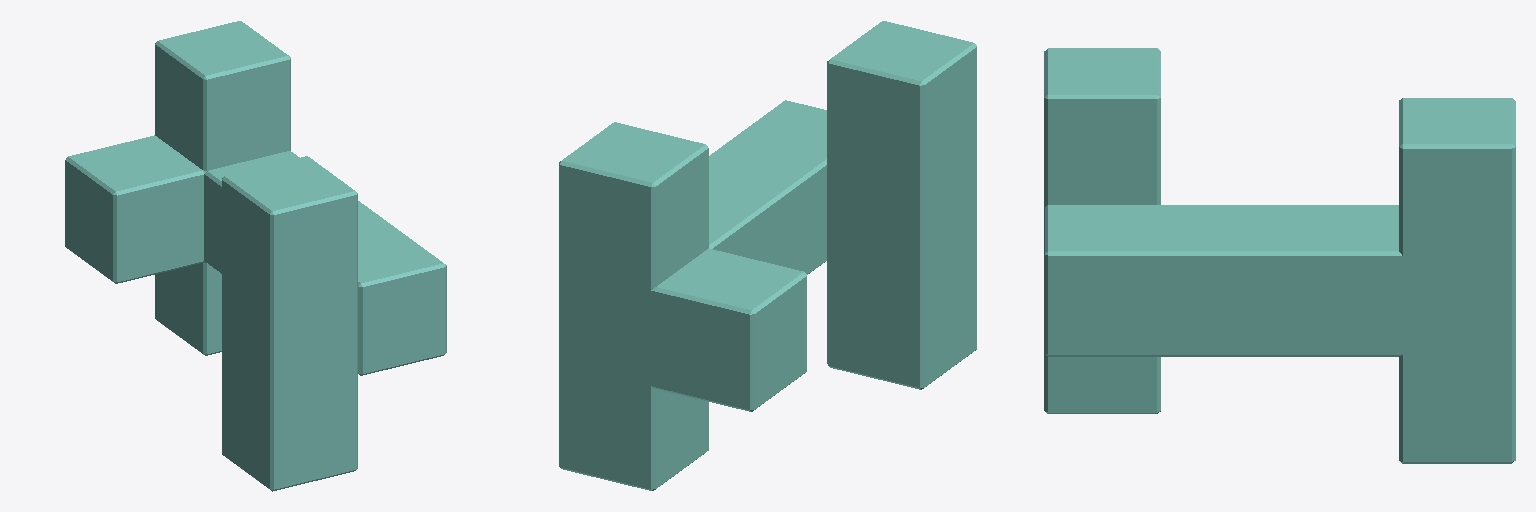
--- Facts derived from the render (not from the file) ---
3 views of the same robot in one strip: view 1: azimuth 30°, elevation 25°; view 2: azimuth 150°, elevation 25°; view 3: azimuth 270°, elevation 25° (orthographic).
Model obj_3 with 1 links and 0 joints (none), rooted at link_piece_3, posed all joints at 0.
Visible links, largest first — view 1: link_piece_3; view 2: link_piece_3; view 3: link_piece_3.
Link boxes in pixels (x1=…): link_piece_3: x1=65, y1=21, x2=446, y2=491; link_piece_3: x1=559, y1=21, x2=976, y2=490; link_piece_3: x1=1044, y1=48, x2=1515, y2=463.
Size in the robot's own frame: 0.3187 by 0.6399 by 0.4793 metres.
Meshes: 1 distinct files referenced, 1 mesh visuals loaded (1 OBJ).

The robot description file, URDF, robot "obj_3":
<robot name="obj_3" version="1.0">
  <link name="link_piece_3">
    <collision name="piece_3-collision.001">
      <origin rpy="0.78483 0.00000 0.00000" xyz="-0.55141 0.18361 0.63871"/>
      <geometry>
        <mesh filename="../meshes/obj/piece_3-collision.001.obj" scale="2.67513 2.67513 2.67513"/>
      </geometry>
    </collision>
    <collision name="piece_3-collision.002">
      <origin rpy="-0.00000 0.78540 -0.00000" xyz="-0.47473 0.26029 0.63871"/>
      <geometry>
        <mesh filename="../meshes/obj/piece_3-collision.002.obj" scale="2.67513 2.67513 2.67513"/>
      </geometry>
    </collision>
    <collision name="piece_3-collision.003">
      <origin rpy="-0.78483 0.00000 0.00000" xyz="-0.55141 0.33697 0.63871"/>
      <geometry>
        <mesh filename="../meshes/obj/piece_3-collision.003.obj" scale="2.67513 2.67513 2.67513"/>
      </geometry>
    </collision>
    <collision name="piece_3-collision.004">
      <origin rpy="0.78546 0.00000 -1.57080" xyz="-0.62810 0.26029 0.63871"/>
      <geometry>
        <mesh filename="../meshes/obj/piece_3-collision.004.obj" scale="2.67513 2.67513 2.67513"/>
      </geometry>
    </collision>
    <collision name="piece_3-collision.005">
      <origin rpy="1.57080 -1.57080 0.00000" xyz="-0.55141 0.18124 0.40152"/>
      <geometry>
        <mesh filename="../meshes/obj/piece_3-collision.005.obj" scale="2.67513 2.67513 2.67513"/>
      </geometry>
    </collision>
    <collision name="piece_3-collision.006">
      <origin rpy="1.57080 0.00000 -1.57080" xyz="-0.63046 0.26029 0.40152"/>
      <geometry>
        <mesh filename="../meshes/obj/piece_3-collision.006.obj" scale="2.67513 2.67513 2.67513"/>
      </geometry>
    </collision>
    <collision name="piece_3-collision.007">
      <origin rpy="-1.57080 1.57080 0.00000" xyz="-0.55141 0.33934 0.40152"/>
      <geometry>
        <mesh filename="../meshes/obj/piece_3-collision.007.obj" scale="2.67513 2.67513 2.67513"/>
      </geometry>
    </collision>
    <collision name="piece_3-collision.008">
      <origin rpy="1.57080 -0.00000 -2.35556" xyz="-0.62810 0.33697 0.40152"/>
      <geometry>
        <mesh filename="../meshes/obj/piece_3-collision.008.obj" scale="2.67513 2.67513 2.67513"/>
      </geometry>
    </collision>
    <collision name="piece_3-collision.009">
      <origin rpy="1.57080 0.00000 -0.78603" xyz="-0.62810 0.18361 0.40152"/>
      <geometry>
        <mesh filename="../meshes/obj/piece_3-collision.009.obj" scale="2.67513 2.67513 2.67513"/>
      </geometry>
    </collision>
    <collision name="piece_3-collision.010">
      <origin rpy="1.57080 0.00000 0.78597" xyz="-0.47473 0.18361 0.40152"/>
      <geometry>
        <mesh filename="../meshes/obj/piece_3-collision.010.obj" scale="2.67513 2.67513 2.67513"/>
      </geometry>
    </collision>
    <collision name="piece_3-collision.011">
      <origin rpy="1.57080 -0.00000 2.35562" xyz="-0.47473 0.33697 0.40152"/>
      <geometry>
        <mesh filename="../meshes/obj/piece_3-collision.011.obj" scale="2.67513 2.67513 2.67513"/>
      </geometry>
    </collision>
    <collision name="piece_3-collision.012">
      <origin rpy="3.14159 0.78533 -3.14159" xyz="-0.47473 0.26029 0.16433"/>
      <geometry>
        <mesh filename="../meshes/obj/piece_3-collision.012.obj" scale="2.67513 2.67513 2.67513"/>
      </geometry>
    </collision>
    <collision name="piece_3-collision.013">
      <origin rpy="2.35683 -0.00000 -3.14159" xyz="-0.55141 0.33697 0.16433"/>
      <geometry>
        <mesh filename="../meshes/obj/piece_3-collision.013.obj" scale="2.67513 2.67513 2.67513"/>
      </geometry>
    </collision>
    <collision name="piece_3-collision.014">
      <origin rpy="-3.14159 -0.78540 -3.14159" xyz="-0.62810 0.26029 0.16433"/>
      <geometry>
        <mesh filename="../meshes/obj/piece_3-collision.014.obj" scale="2.67513 2.67513 2.67513"/>
      </geometry>
    </collision>
    <collision name="piece_3-collision.015">
      <origin rpy="2.35683 0.00000 0.00000" xyz="-0.55141 0.18361 0.16433"/>
      <geometry>
        <mesh filename="../meshes/obj/piece_3-collision.015.obj" scale="2.67513 2.67513 2.67513"/>
      </geometry>
    </collision>
    <collision name="piece_3-collision.016">
      <origin rpy="1.57080 -0.00000 1.57080" xyz="-0.47236 0.26029 0.40152"/>
      <geometry>
        <mesh filename="../meshes/obj/piece_3-collision.016.obj" scale="2.67513 2.67513 2.67513"/>
      </geometry>
    </collision>
    <collision name="piece_3-collision.017">
      <origin rpy="-0.78484 -0.00000 -3.14159" xyz="-0.39290 0.18371 0.47821"/>
      <geometry>
        <mesh filename="../meshes/obj/piece_3-collision.017.obj" scale="2.67513 2.67513 2.67513"/>
      </geometry>
    </collision>
    <collision name="piece_3-collision.018">
      <origin rpy="1.57080 0.00000 -0.78596" xyz="-0.46959 0.18371 0.40152"/>
      <geometry>
        <mesh filename="../meshes/obj/piece_3-collision.018.obj" scale="2.67513 2.67513 2.67513"/>
      </geometry>
    </collision>
    <collision name="piece_3-collision.019">
      <origin rpy="-2.35676 -0.00000 -3.14159" xyz="-0.39290 0.18371 0.32484"/>
      <geometry>
        <mesh filename="../meshes/obj/piece_3-collision.019.obj" scale="2.67513 2.67513 2.67513"/>
      </geometry>
    </collision>
    <collision name="piece_3-collision.020">
      <origin rpy="1.57080 0.00000 0.78602" xyz="-0.31622 0.18371 0.40152"/>
      <geometry>
        <mesh filename="../meshes/obj/piece_3-collision.020.obj" scale="2.67513 2.67513 2.67513"/>
      </geometry>
    </collision>
    <collision name="piece_3-collision.021">
      <origin rpy="1.57080 -1.57080 0.00000" xyz="-0.39290 0.18134 0.40152"/>
      <geometry>
        <mesh filename="../meshes/obj/piece_3-collision.021.obj" scale="2.67513 2.67513 2.67513"/>
      </geometry>
    </collision>
    <collision name="piece_3-collision.022">
      <origin rpy="1.57080 0.00000 1.57080" xyz="-0.31385 0.42683 0.40152"/>
      <geometry>
        <mesh filename="../meshes/obj/piece_3-collision.022.obj" scale="2.67513 2.67513 2.67513"/>
      </geometry>
    </collision>
    <collision name="piece_3-collision.023">
      <origin rpy="0.00000 -0.00000 -3.14159" xyz="-0.39290 0.42447 0.48057"/>
      <geometry>
        <mesh filename="../meshes/obj/piece_3-collision.023.obj" scale="2.67513 2.67513 2.67513"/>
      </geometry>
    </collision>
    <collision name="piece_3-collision.024">
      <origin rpy="1.57080 0.00000 -1.57080" xyz="-0.47195 0.42447 0.40152"/>
      <geometry>
        <mesh filename="../meshes/obj/piece_3-collision.024.obj" scale="2.67513 2.67513 2.67513"/>
      </geometry>
    </collision>
    <collision name="piece_3-collision.025">
      <origin rpy="1.57080 -1.57080 0.00000" xyz="-0.39290 0.66286 0.55846"/>
      <geometry>
        <mesh filename="../meshes/obj/piece_3-collision.025.obj" scale="2.67513 2.67513 2.67513"/>
      </geometry>
    </collision>
    <collision name="piece_3-collision.026">
      <origin rpy="1.57080 0.00000 -1.57080" xyz="-0.47195 0.74191 0.55846"/>
      <geometry>
        <mesh filename="../meshes/obj/piece_3-collision.026.obj" scale="2.67513 2.67513 2.67513"/>
      </geometry>
    </collision>
    <collision name="piece_3-collision.027">
      <origin rpy="-1.57080 1.57080 0.00000" xyz="-0.39290 0.82096 0.40152"/>
      <geometry>
        <mesh filename="../meshes/obj/piece_3-collision.027.obj" scale="2.67513 2.67513 2.67513"/>
      </geometry>
    </collision>
    <collision name="piece_3-collision.028">
      <origin rpy="1.57080 0.00000 1.57080" xyz="-0.31385 0.74191 0.40152"/>
      <geometry>
        <mesh filename="../meshes/obj/piece_3-collision.028.obj" scale="2.67513 2.67513 2.67513"/>
      </geometry>
    </collision>
    <collision name="piece_3-collision.029">
      <origin rpy="-3.14159 -0.00000 -3.14159" xyz="-0.39290 0.74191 0.40152"/>
      <geometry>
        <mesh filename="../meshes/obj/piece_3-collision.029.obj" scale="2.67513 2.67513 2.67513"/>
      </geometry>
    </collision>
    <collision name="piece_3-collision.030">
      <origin rpy="1.57080 -1.57080 0.00000" xyz="-0.39290 0.66286 0.24458"/>
      <geometry>
        <mesh filename="../meshes/obj/piece_3-collision.030.obj" scale="2.67513 2.67513 2.67513"/>
      </geometry>
    </collision>
    <collision name="piece_3-collision.031">
      <origin rpy="1.57080 0.00000 -1.57080" xyz="-0.47195 0.74191 0.24458"/>
      <geometry>
        <mesh filename="../meshes/obj/piece_3-collision.031.obj" scale="2.67513 2.67513 2.67513"/>
      </geometry>
    </collision>
    <collision name="piece_3-collision.032">
      <origin rpy="-3.14159 -0.00000 -3.14159" xyz="-0.54984 0.74191 0.32247"/>
      <geometry>
        <mesh filename="../meshes/obj/piece_3-collision.032.obj" scale="2.67513 2.67513 2.67513"/>
      </geometry>
    </collision>
    <collision name="piece_3-collision.033">
      <origin rpy="-1.57080 1.57080 0.00000" xyz="-0.54748 0.82096 0.40152"/>
      <geometry>
        <mesh filename="../meshes/obj/piece_3-collision.033.obj" scale="2.67513 2.67513 2.67513"/>
      </geometry>
    </collision>
    <collision name="piece_3-collision.034">
      <origin rpy="1.57080 0.00000 -1.57080" xyz="-0.63246 0.74191 0.40152"/>
      <geometry>
        <mesh filename="../meshes/obj/piece_3-collision.034.obj" scale="2.67513 2.67513 2.67513"/>
      </geometry>
    </collision>
    <collision name="piece_3-collision.035">
      <origin rpy="1.57080 -1.57080 0.00000" xyz="-0.54984 0.66286 0.40152"/>
      <geometry>
        <mesh filename="../meshes/obj/piece_3-collision.035.obj" scale="2.67513 2.67513 2.67513"/>
      </geometry>
    </collision>
    <collision name="piece_3-collision.036">
      <origin rpy="0.00000 -0.00000 -3.14159" xyz="-0.54984 0.74191 0.48057"/>
      <geometry>
        <mesh filename="../meshes/obj/piece_3-collision.036.obj" scale="2.67513 2.67513 2.67513"/>
      </geometry>
    </collision>
    <collision name="piece_3-collision.037">
      <origin rpy="0.00000 0.78540 -3.14159" xyz="-0.63009 0.74191 0.47821"/>
      <geometry>
        <mesh filename="../meshes/obj/piece_3-collision.037.obj" scale="2.67513 2.67513 2.67513"/>
      </geometry>
    </collision>
    <collision name="piece_3-collision.038">
      <origin rpy="0.00000 -0.78540 1.57080" xyz="-0.54984 0.66523 0.47821"/>
      <geometry>
        <mesh filename="../meshes/obj/piece_3-collision.038.obj" scale="2.67513 2.67513 2.67513"/>
      </geometry>
    </collision>
    <collision name="piece_3-collision.039">
      <origin rpy="-1.57080 -0.00000 0.78540" xyz="-0.63009 0.81860 0.40152"/>
      <geometry>
        <mesh filename="../meshes/obj/piece_3-collision.039.obj" scale="2.67513 2.67513 2.67513"/>
      </geometry>
    </collision>
    <collision name="piece_3-collision.040">
      <origin rpy="-3.14159 -0.78540 -3.14159" xyz="-0.63009 0.74191 0.32484"/>
      <geometry>
        <mesh filename="../meshes/obj/piece_3-collision.040.obj" scale="2.67513 2.67513 2.67513"/>
      </geometry>
    </collision>
    <collision name="piece_3-collision.041">
      <origin rpy="0.78540 -1.57080 0.00000" xyz="-0.63009 0.66523 0.40152"/>
      <geometry>
        <mesh filename="../meshes/obj/piece_3-collision.041.obj" scale="2.67513 2.67513 2.67513"/>
      </geometry>
    </collision>
    <collision name="piece_3-collision.042">
      <origin rpy="2.35619 0.00000 0.00000" xyz="-0.54984 0.66523 0.32484"/>
      <geometry>
        <mesh filename="../meshes/obj/piece_3-collision.042.obj" scale="2.67513 2.67513 2.67513"/>
      </geometry>
    </collision>
    <collision name="piece_3-collision.043">
      <origin rpy="0.00000 0.78540 1.57080" xyz="-0.39290 0.81860 0.63871"/>
      <geometry>
        <mesh filename="../meshes/obj/piece_3-collision.043.obj" scale="2.67513 2.67513 2.67513"/>
      </geometry>
    </collision>
    <collision name="piece_3-collision.044">
      <origin rpy="-0.78540 -0.00000 1.57080" xyz="-0.46959 0.74191 0.63871"/>
      <geometry>
        <mesh filename="../meshes/obj/piece_3-collision.044.obj" scale="2.67513 2.67513 2.67513"/>
      </geometry>
    </collision>
    <collision name="piece_3-collision.045">
      <origin rpy="-0.00000 0.78540 -1.57080" xyz="-0.39290 0.66523 0.63871"/>
      <geometry>
        <mesh filename="../meshes/obj/piece_3-collision.045.obj" scale="2.67513 2.67513 2.67513"/>
      </geometry>
    </collision>
    <collision name="piece_3-collision.046">
      <origin rpy="-0.78546 -0.00000 -1.57080" xyz="-0.31622 0.74191 0.63871"/>
      <geometry>
        <mesh filename="../meshes/obj/piece_3-collision.046.obj" scale="2.67513 2.67513 2.67513"/>
      </geometry>
    </collision>
    <collision name="piece_3-collision.047">
      <origin rpy="1.57080 -0.00000 2.35613" xyz="-0.31622 0.81860 0.40152"/>
      <geometry>
        <mesh filename="../meshes/obj/piece_3-collision.047.obj" scale="2.67513 2.67513 2.67513"/>
      </geometry>
    </collision>
    <collision name="piece_3-collision.048">
      <origin rpy="3.14159 0.78540 -3.14159" xyz="-0.31622 0.74191 0.16433"/>
      <geometry>
        <mesh filename="../meshes/obj/piece_3-collision.048.obj" scale="2.67513 2.67513 2.67513"/>
      </geometry>
    </collision>
    <collision name="piece_3-collision.049">
      <origin rpy="2.35626 -0.00000 -3.14159" xyz="-0.39290 0.81860 0.16433"/>
      <geometry>
        <mesh filename="../meshes/obj/piece_3-collision.049.obj" scale="2.67513 2.67513 2.67513"/>
      </geometry>
    </collision>
    <collision name="piece_3-collision.050">
      <origin rpy="3.14159 -0.78533 -3.14159" xyz="-0.46959 0.74191 0.16433"/>
      <geometry>
        <mesh filename="../meshes/obj/piece_3-collision.050.obj" scale="2.67513 2.67513 2.67513"/>
      </geometry>
    </collision>
    <collision name="piece_3-collision.051">
      <origin rpy="-2.35626 -0.00000 -3.14159" xyz="-0.39290 0.66523 0.16433"/>
      <geometry>
        <mesh filename="../meshes/obj/piece_3-collision.051.obj" scale="2.67513 2.67513 2.67513"/>
      </geometry>
    </collision>
    <collision name="piece_3-collision.052">
      <origin rpy="0.00000 0.78540 -3.14159" xyz="-0.46959 0.42447 0.47821"/>
      <geometry>
        <mesh filename="../meshes/obj/piece_3-collision.052.obj" scale="2.67513 2.67513 2.67513"/>
      </geometry>
    </collision>
    <collision name="piece_3-collision.053">
      <origin rpy="-3.14159 -0.78540 -3.14159" xyz="-0.46959 0.42447 0.32484"/>
      <geometry>
        <mesh filename="../meshes/obj/piece_3-collision.053.obj" scale="2.67513 2.67513 2.67513"/>
      </geometry>
    </collision>
    <collision name="piece_3-collision.054">
      <origin rpy="0.78540 -1.57080 0.00000" xyz="-0.46959 0.66523 0.55846"/>
      <geometry>
        <mesh filename="../meshes/obj/piece_3-collision.054.obj" scale="2.67513 2.67513 2.67513"/>
      </geometry>
    </collision>
    <collision name="piece_3-collision.055">
      <origin rpy="-2.35626 -0.00000 -3.14159" xyz="-0.39290 0.66523 0.16433"/>
      <geometry>
        <mesh filename="../meshes/obj/piece_3-collision.055.obj" scale="2.67513 2.67513 2.67513"/>
      </geometry>
    </collision>
    <collision name="piece_3-collision.056">
      <origin rpy="1.57080 0.00000 -0.78540" xyz="-0.46959 0.66523 0.24458"/>
      <geometry>
        <mesh filename="../meshes/obj/piece_3-collision.056.obj" scale="2.67513 2.67513 2.67513"/>
      </geometry>
    </collision>
    <collision name="piece_3-collision.057">
      <origin rpy="-3.14159 -0.00000 -3.14159" xyz="-0.39290 0.42447 0.32247"/>
      <geometry>
        <mesh filename="../meshes/obj/piece_3-collision.057.obj" scale="2.67513 2.67513 2.67513"/>
      </geometry>
    </collision>
    <collision name="piece_3-collision.058">
      <origin rpy="1.57080 0.00000 -1.57080" xyz="-0.47122 0.29914 0.38320"/>
      <geometry>
        <mesh filename="../meshes/obj/piece_3-collision.058.obj" scale="0.01338 0.01338 0.01338"/>
      </geometry>
    </collision>
    <collision name="piece_3-collision.059">
      <origin rpy="1.57080 0.00000 -1.57080" xyz="-0.47122 0.29914 0.38320"/>
      <geometry>
        <mesh filename="../meshes/obj/piece_3-collision.059.obj" scale="0.01338 0.01338 0.01338"/>
      </geometry>
    </collision>
    <collision name="piece_3-collision.060">
      <origin rpy="1.57080 0.00000 -1.57080" xyz="-0.47122 0.29914 0.38320"/>
      <geometry>
        <mesh filename="../meshes/obj/piece_3-collision.060.obj" scale="0.01338 0.01338 0.01338"/>
      </geometry>
    </collision>
    <collision name="piece_3-collision.061">
      <origin rpy="1.57080 0.00000 -1.57080" xyz="-0.47122 0.29914 0.38320"/>
      <geometry>
        <mesh filename="../meshes/obj/piece_3-collision.061.obj" scale="0.01338 0.01338 0.01338"/>
      </geometry>
    </collision>
    <collision name="piece_3-collision.062">
      <origin rpy="1.57080 0.00000 -1.57080" xyz="-0.47122 0.29914 0.38320"/>
      <geometry>
        <mesh filename="../meshes/obj/piece_3-collision.062.obj" scale="0.01338 0.01338 0.01338"/>
      </geometry>
    </collision>
    <collision name="piece_3-collision.063">
      <origin rpy="1.57080 0.00000 -1.57080" xyz="-0.47122 0.29914 0.38320"/>
      <geometry>
        <mesh filename="../meshes/obj/piece_3-collision.063.obj" scale="0.01338 0.01338 0.01338"/>
      </geometry>
    </collision>
    <collision name="piece_3-collision.064">
      <origin rpy="1.57080 0.00000 -1.57080" xyz="-0.47122 0.29914 0.38320"/>
      <geometry>
        <mesh filename="../meshes/obj/piece_3-collision.064.obj" scale="0.01338 0.01338 0.01338"/>
      </geometry>
    </collision>
    <collision name="piece_3-collision.065">
      <origin rpy="1.57080 0.00000 -1.57080" xyz="-0.47122 0.29914 0.38320"/>
      <geometry>
        <mesh filename="../meshes/obj/piece_3-collision.065.obj" scale="0.01338 0.01338 0.01338"/>
      </geometry>
    </collision>
    <collision name="piece_3-collision.066">
      <origin rpy="1.57080 0.00000 -1.57080" xyz="-0.47122 0.29914 0.38320"/>
      <geometry>
        <mesh filename="../meshes/obj/piece_3-collision.066.obj" scale="0.01338 0.01338 0.01338"/>
      </geometry>
    </collision>
    <collision name="piece_3-collision.067">
      <origin rpy="1.57080 0.00000 -1.57080" xyz="-0.47122 0.29914 0.38320"/>
      <geometry>
        <mesh filename="../meshes/obj/piece_3-collision.067.obj" scale="0.01338 0.01338 0.01338"/>
      </geometry>
    </collision>
    <collision name="piece_3-collision.068">
      <origin rpy="1.57080 0.00000 -1.57080" xyz="-0.47122 0.29914 0.38320"/>
      <geometry>
        <mesh filename="../meshes/obj/piece_3-collision.068.obj" scale="0.01338 0.01338 0.01338"/>
      </geometry>
    </collision>
    <collision name="piece_3-collision.069">
      <origin rpy="1.57080 0.00000 -1.57080" xyz="-0.47122 0.29914 0.38320"/>
      <geometry>
        <mesh filename="../meshes/obj/piece_3-collision.069.obj" scale="0.01338 0.01338 0.01338"/>
      </geometry>
    </collision>
    <collision name="piece_3-collision.070">
      <origin rpy="1.57080 0.00000 -1.57080" xyz="-0.47122 0.29914 0.38320"/>
      <geometry>
        <mesh filename="../meshes/obj/piece_3-collision.070.obj" scale="0.01338 0.01338 0.01338"/>
      </geometry>
    </collision>
    <collision name="piece_3-collision.071">
      <origin rpy="1.57080 0.00000 -1.57080" xyz="-0.47122 0.29914 0.38320"/>
      <geometry>
        <mesh filename="../meshes/obj/piece_3-collision.071.obj" scale="0.01338 0.01338 0.01338"/>
      </geometry>
    </collision>
    <collision name="piece_3-collision.072">
      <origin rpy="1.57080 0.00000 -1.57080" xyz="-0.47122 0.29914 0.38320"/>
      <geometry>
        <mesh filename="../meshes/obj/piece_3-collision.072.obj" scale="0.01338 0.01338 0.01338"/>
      </geometry>
    </collision>
    <collision name="piece_3-collision.073">
      <origin rpy="1.57080 0.00000 -1.57080" xyz="-0.47122 0.29914 0.38320"/>
      <geometry>
        <mesh filename="../meshes/obj/piece_3-collision.073.obj" scale="0.01338 0.01338 0.01338"/>
      </geometry>
    </collision>
    <collision name="piece_3-collision.074">
      <origin rpy="1.57080 0.00000 -1.57080" xyz="-0.47122 0.29914 0.38320"/>
      <geometry>
        <mesh filename="../meshes/obj/piece_3-collision.074.obj" scale="0.01338 0.01338 0.01338"/>
      </geometry>
    </collision>
    <collision name="piece_3-collision.075">
      <origin rpy="1.57080 0.00000 -1.57080" xyz="-0.47122 0.29914 0.38320"/>
      <geometry>
        <mesh filename="../meshes/obj/piece_3-collision.075.obj" scale="0.01338 0.01338 0.01338"/>
      </geometry>
    </collision>
    <collision name="piece_3-collision.076">
      <origin rpy="1.57080 0.00000 -1.57080" xyz="-0.47122 0.29914 0.38320"/>
      <geometry>
        <mesh filename="../meshes/obj/piece_3-collision.076.obj" scale="0.01338 0.01338 0.01338"/>
      </geometry>
    </collision>
    <collision name="piece_3-collision.077">
      <origin rpy="1.57080 0.00000 -1.57080" xyz="-0.47122 0.29914 0.38320"/>
      <geometry>
        <mesh filename="../meshes/obj/piece_3-collision.077.obj" scale="0.01338 0.01338 0.01338"/>
      </geometry>
    </collision>
    <collision name="piece_3-collision.078">
      <origin rpy="1.57080 0.00000 -1.57080" xyz="-0.47122 0.29914 0.38320"/>
      <geometry>
        <mesh filename="../meshes/obj/piece_3-collision.078.obj" scale="0.01338 0.01338 0.01338"/>
      </geometry>
    </collision>
    <collision name="piece_3-collision.079">
      <origin rpy="1.57080 0.00000 -1.57080" xyz="-0.47122 0.29914 0.38320"/>
      <geometry>
        <mesh filename="../meshes/obj/piece_3-collision.079.obj" scale="0.01338 0.01338 0.01338"/>
      </geometry>
    </collision>
    <collision name="piece_3-collision.080">
      <origin rpy="1.57080 0.00000 -1.57080" xyz="-0.47122 0.29914 0.38320"/>
      <geometry>
        <mesh filename="../meshes/obj/piece_3-collision.080.obj" scale="0.01338 0.01338 0.01338"/>
      </geometry>
    </collision>
    <collision name="piece_3-collision.081">
      <origin rpy="1.57080 0.00000 -1.57080" xyz="-0.47122 0.29914 0.38320"/>
      <geometry>
        <mesh filename="../meshes/obj/piece_3-collision.081.obj" scale="0.01338 0.01338 0.01338"/>
      </geometry>
    </collision>
    <collision name="piece_3-collision.082">
      <origin rpy="1.57080 0.00000 -1.57080" xyz="-0.47122 0.29914 0.38320"/>
      <geometry>
        <mesh filename="../meshes/obj/piece_3-collision.082.obj" scale="0.01338 0.01338 0.01338"/>
      </geometry>
    </collision>
    <collision name="piece_3-collision.083">
      <origin rpy="1.57080 0.00000 -1.57080" xyz="-0.47122 0.29914 0.38320"/>
      <geometry>
        <mesh filename="../meshes/obj/piece_3-collision.083.obj" scale="0.01338 0.01338 0.01338"/>
      </geometry>
    </collision>
    <collision name="piece_3-collision.084">
      <origin rpy="1.57080 0.00000 -1.57080" xyz="-0.47122 0.29914 0.38320"/>
      <geometry>
        <mesh filename="../meshes/obj/piece_3-collision.084.obj" scale="0.01338 0.01338 0.01338"/>
      </geometry>
    </collision>
    <collision name="piece_3-collision.085">
      <origin rpy="1.57080 0.00000 -1.57080" xyz="-0.47122 0.29914 0.38320"/>
      <geometry>
        <mesh filename="../meshes/obj/piece_3-collision.085.obj" scale="0.01338 0.01338 0.01338"/>
      </geometry>
    </collision>
    <collision name="piece_3-collision.086">
      <origin rpy="1.57080 0.00000 -1.57080" xyz="-0.47122 0.29914 0.38320"/>
      <geometry>
        <mesh filename="../meshes/obj/piece_3-collision.086.obj" scale="0.01338 0.01338 0.01338"/>
      </geometry>
    </collision>
    <collision name="piece_3-collision.087">
      <origin rpy="1.57080 0.00000 -1.57080" xyz="-0.47122 0.29914 0.38320"/>
      <geometry>
        <mesh filename="../meshes/obj/piece_3-collision.087.obj" scale="0.01338 0.01338 0.01338"/>
      </geometry>
    </collision>
    <collision name="piece_3-collision.088">
      <origin rpy="1.57080 0.00000 -1.57080" xyz="-0.47122 0.29914 0.38320"/>
      <geometry>
        <mesh filename="../meshes/obj/piece_3-collision.088.obj" scale="0.01338 0.01338 0.01338"/>
      </geometry>
    </collision>
    <collision name="piece_3-collision.089">
      <origin rpy="1.57080 0.00000 -1.57080" xyz="-0.47122 0.29914 0.38320"/>
      <geometry>
        <mesh filename="../meshes/obj/piece_3-collision.089.obj" scale="0.01338 0.01338 0.01338"/>
      </geometry>
    </collision>
    <collision name="piece_3-collision.090">
      <origin rpy="1.57080 0.00000 -1.57080" xyz="-0.47122 0.29914 0.38320"/>
      <geometry>
        <mesh filename="../meshes/obj/piece_3-collision.090.obj" scale="0.01338 0.01338 0.01338"/>
      </geometry>
    </collision>
    <collision name="piece_3-collision.091">
      <origin rpy="1.57080 0.00000 -1.57080" xyz="-0.47122 0.29914 0.38320"/>
      <geometry>
        <mesh filename="../meshes/obj/piece_3-collision.091.obj" scale="0.01338 0.01338 0.01338"/>
      </geometry>
    </collision>
    <collision name="piece_3-collision.092">
      <origin rpy="1.57080 0.00000 -1.57080" xyz="-0.47122 0.29914 0.38320"/>
      <geometry>
        <mesh filename="../meshes/obj/piece_3-collision.092.obj" scale="0.01338 0.01338 0.01338"/>
      </geometry>
    </collision>
    <collision name="piece_3-collision.093">
      <origin rpy="1.57080 0.00000 -1.57080" xyz="-0.47122 0.29914 0.38320"/>
      <geometry>
        <mesh filename="../meshes/obj/piece_3-collision.093.obj" scale="0.01338 0.01338 0.01338"/>
      </geometry>
    </collision>
    <inertial>
      <inertia ixx="0.01495" ixy="-0.00175" ixz="-0.00014" iyy="0.00299" iyz="-0.00087" izz="0.01420"/>
      <origin rpy="0.00000 0.00000 0.00000" xyz="-0.45610 0.50256 0.40160"/>
      <mass value="0.15000"/>
    </inertial>
    <visual name="piece_3">
      <material name="turnarrow"/>
      <origin rpy="1.57080 0.00000 -1.57080" xyz="-0.47122 0.29914 0.38320"/>
      <geometry>
        <mesh filename="../meshes/obj/003.obj" scale="0.01338 0.01338 0.01338"/>
      </geometry>
    </visual>
  </link>
  <material name="turnarrow">
    <color rgba="0.53725 0.80000 0.76078 1.00000"/>
  </material>
</robot>
